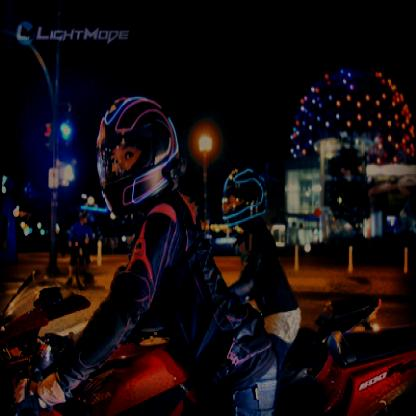wear: (100, 96, 179, 208), (222, 162, 262, 225)
